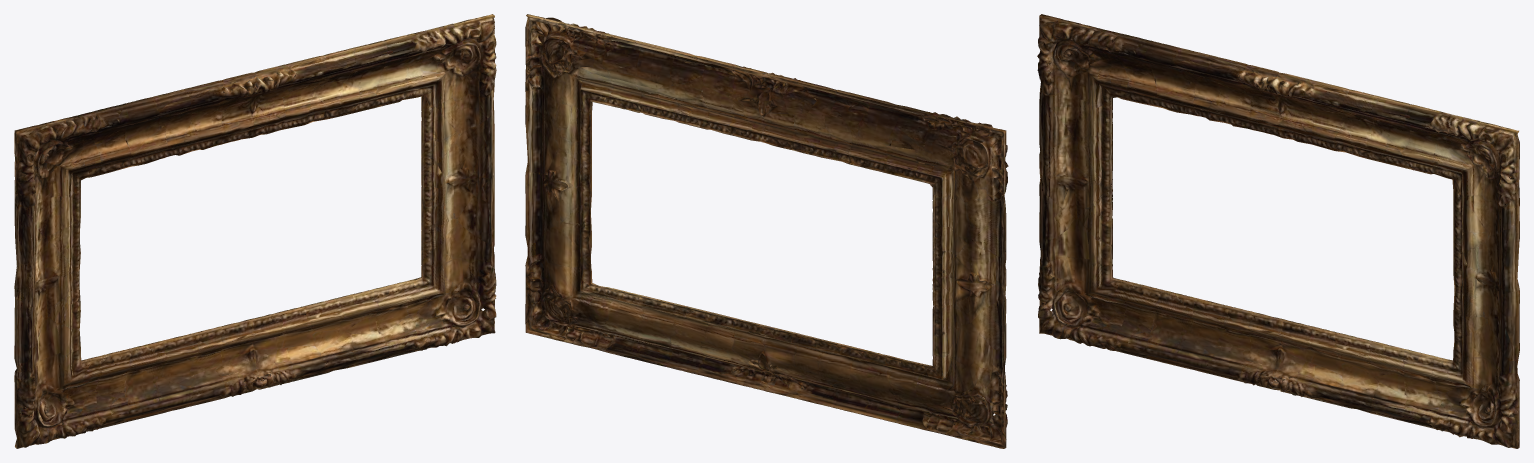
File: frame_gold.glb
The picture shows the model from 3 angles, left to right: view 1: azimuth 30°, elevation 25°; view 2: azimuth 150°, elevation 25°; view 3: azimuth 330°, elevation 25°; orthographic projection.
Visible parts, largest first — view 1: Object_4; view 2: Object_4; view 3: Object_4.
Part boxes in pixels (left/top/right/bottom): Object_4: left=14, top=14, right=496, bottom=448; Object_4: left=525, top=14, right=1008, bottom=448; Object_4: left=1037, top=14, right=1519, bottom=448.
Bounding box in the file's own units: 1.9 × 1.2 × 0.0884.
1 material, 1 textured.
